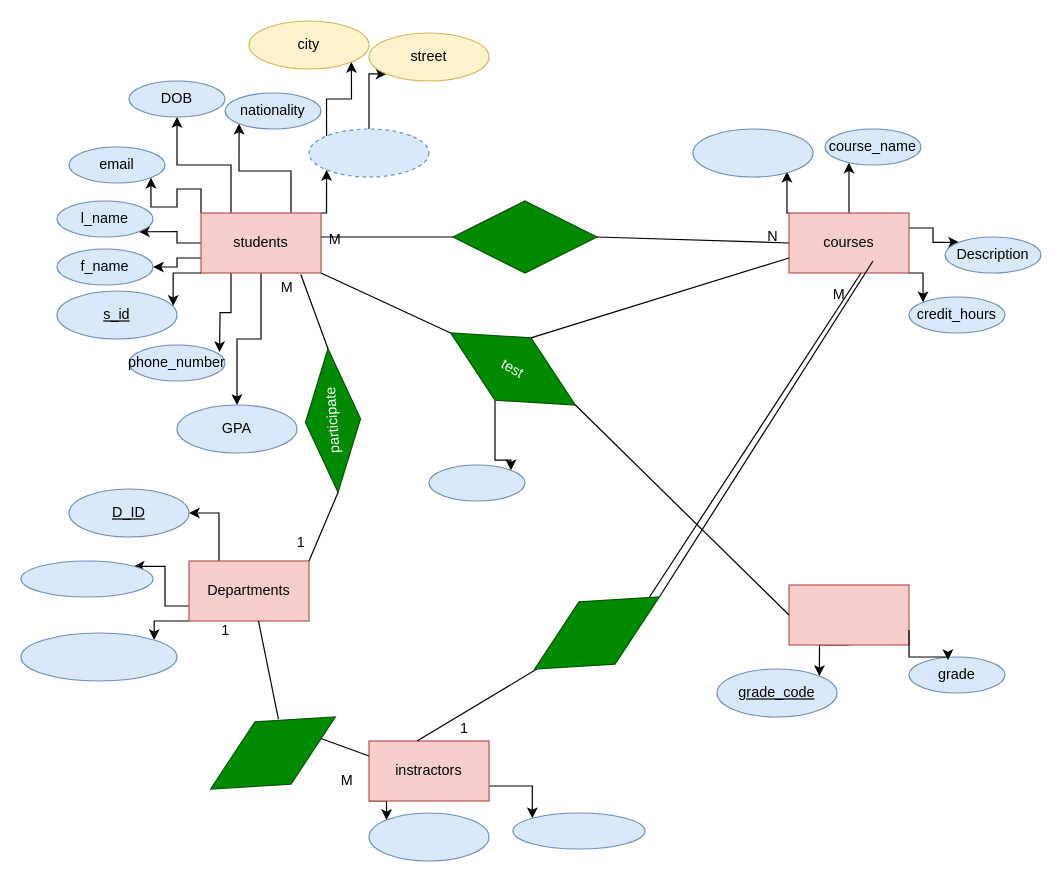
This 1062x882 diagram has some shape labels left out. The shapes that lost their labels are listed below. From the top down, each one's centre as x and y in pixels, then its label:
At (368,152): "address".
At (752,152): "course_id".
At (524,236): "enroll".
At (476,482): "date".
At (86,578): "department_name".
At (596,632): "teach".
At (848,614): "grades".
At (98,656): "department_describtion".
At (272,752): "work".
At (428,836): "instractor_id".
At (578,830): "instractor_name".
